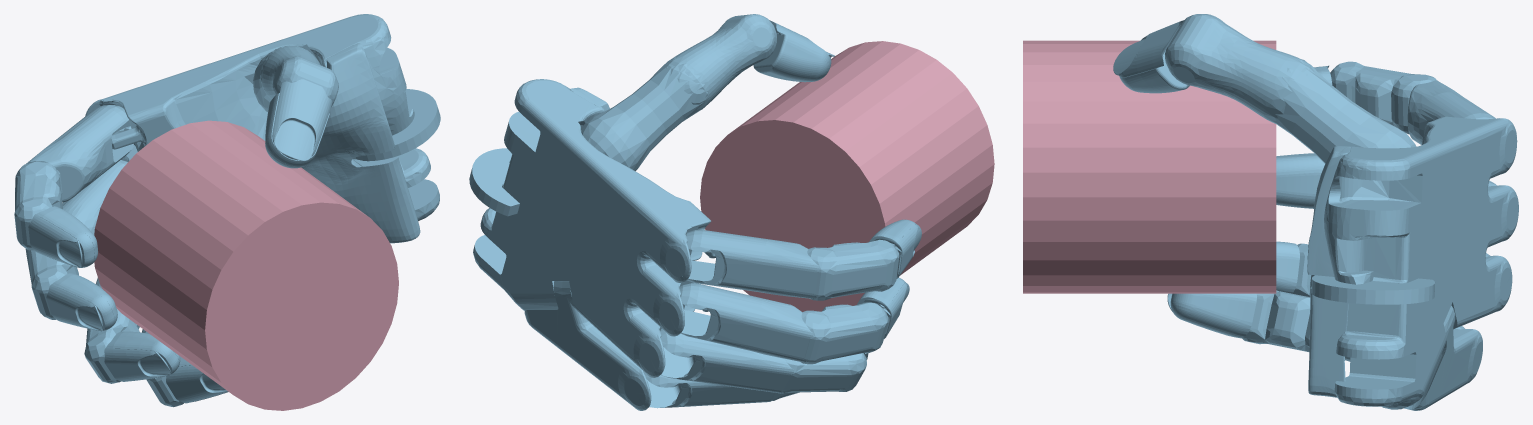
3 views of the same model, side by side, from view 1: azimuth 30°, elevation 25°; view 2: azimuth 150°, elevation 25°; view 3: azimuth 270°, elevation 25° (orthographic). The views are drawn at different scales.
Parts seen in each view (by area): view 1: world; view 2: world; view 3: world.
Boxes of the visible parts, <box> form: world: <box>14,14,440,410</box>; world: <box>469,14,994,410</box>; world: <box>1023,14,1518,410</box>.
Bounding box in the file's own units: 0.1761 × 0.1339 × 0.1566.
